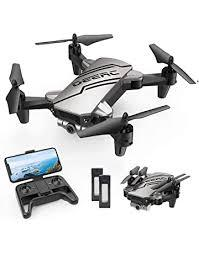drone: (0, 28, 199, 158)
